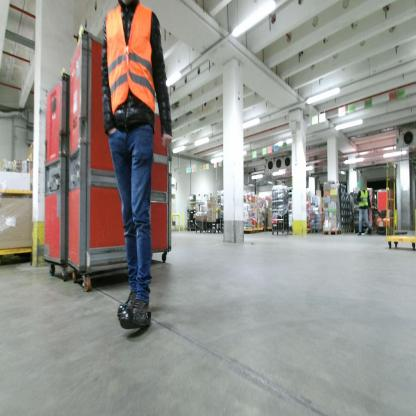pallet: (322, 224, 341, 237), (341, 226, 346, 235), (346, 226, 351, 235)
pallet_truck: (367, 196, 410, 236), (314, 226, 325, 233)
